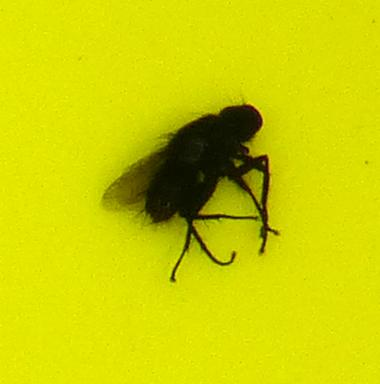Brachycera: (100, 100, 280, 284)
